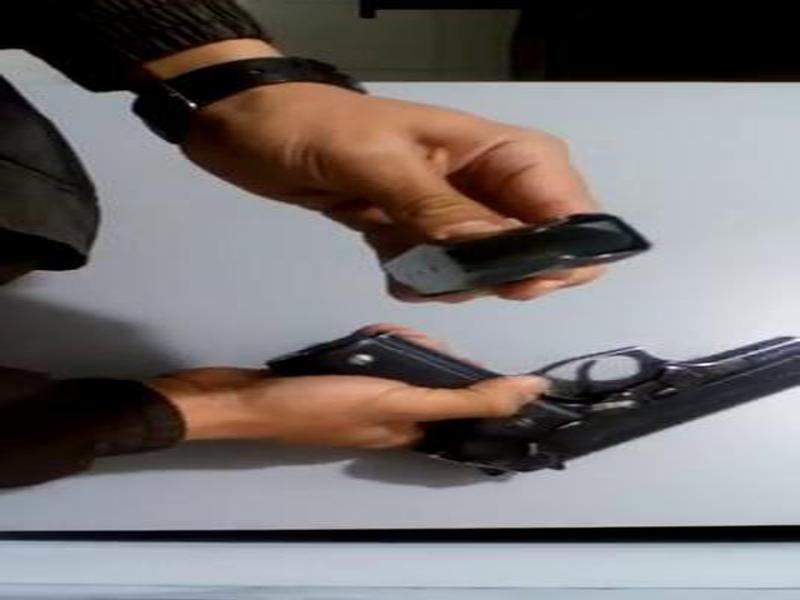Pistola: (276, 304, 800, 494)
